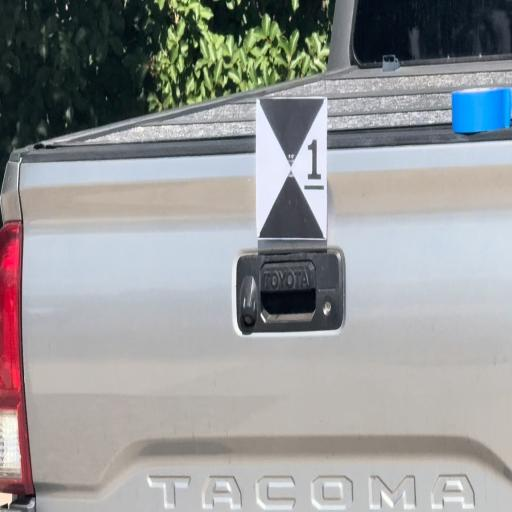target1: (257, 99, 326, 242)
